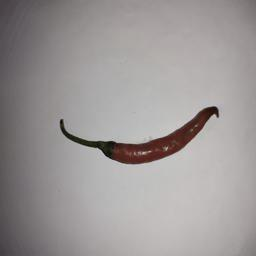Buah Cabai Sehat: (101, 104, 221, 165)
